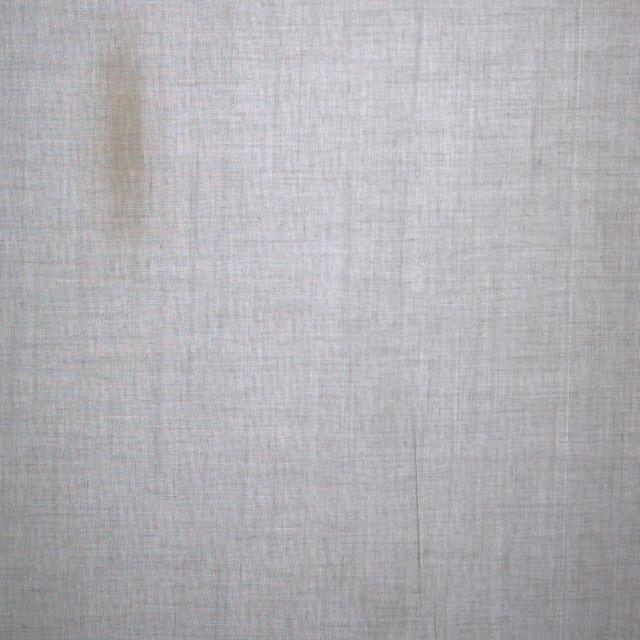dirty: (96, 42, 152, 237)
